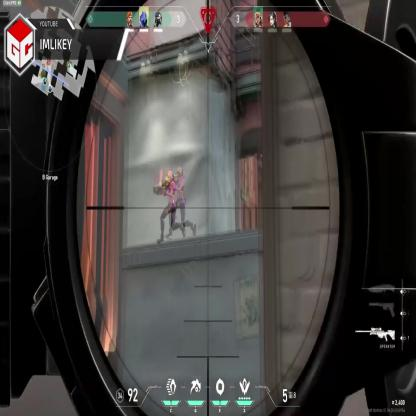enemy: (157, 162, 184, 237)
enemy_head: (168, 171, 173, 182)
